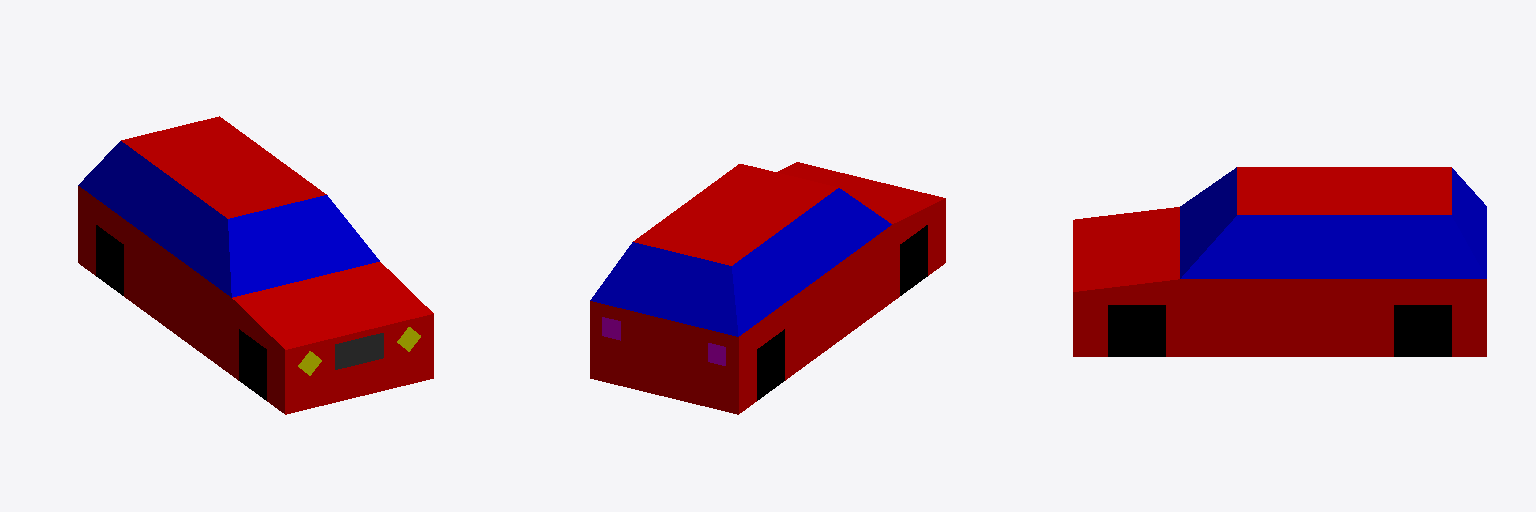
File: station_car.obj
The picture shows the model from 3 angles: view 1: azimuth 30°, elevation 25°; view 2: azimuth 150°, elevation 25°; view 3: azimuth 270°, elevation 25°; orthographic projection.
Visible parts, largest first — view 1: station_car; view 2: station_car; view 3: station_car.
Boxes of the visible parts, x1,y1,x2,y2 form: station_car: [78, 116, 433, 414]; station_car: [590, 162, 945, 414]; station_car: [1073, 167, 1486, 356].
Bounding box in the file's own units: 12 × 10 × 29.